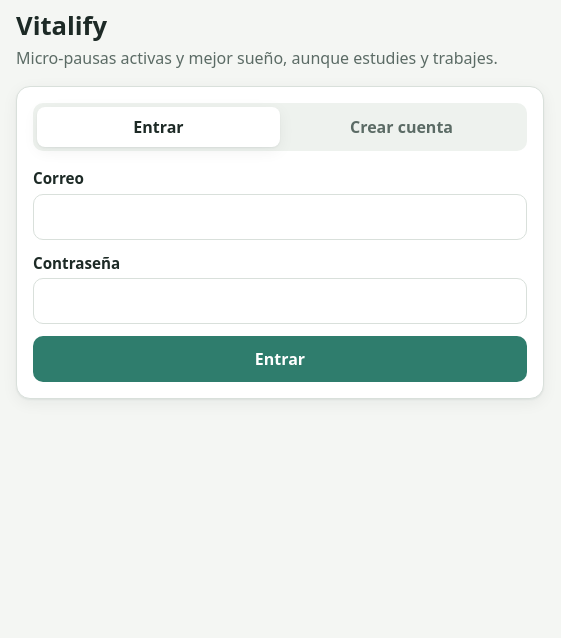
Test case: Entrar › el registro sin aceptar el tratamiento de datos no se envía
This screenshot has width=561, height=638.
Step 1. Click the tab "Crear cuenta" → x=402, y=127, box [280,107,523,147]
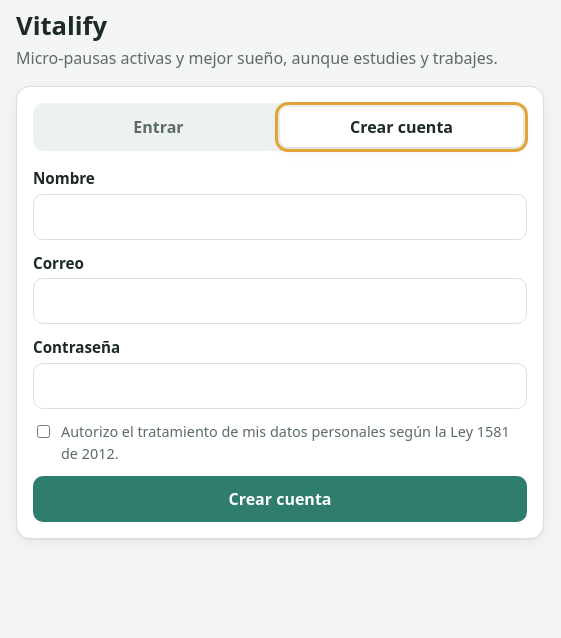
Step 2. Type "Ana" into the field labelled "Nombre" → x=280, y=216, box [33,194,527,240]
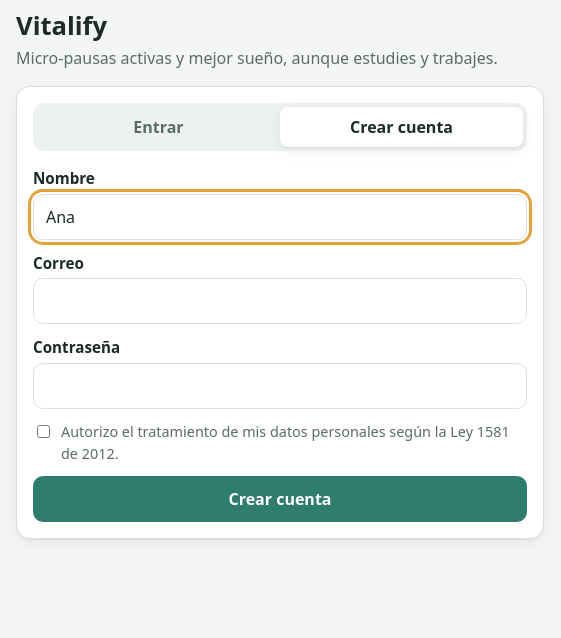
Step 3. Type "ana@x.co" into the field labelled "Correo" → x=280, y=301, box [33,278,527,324]
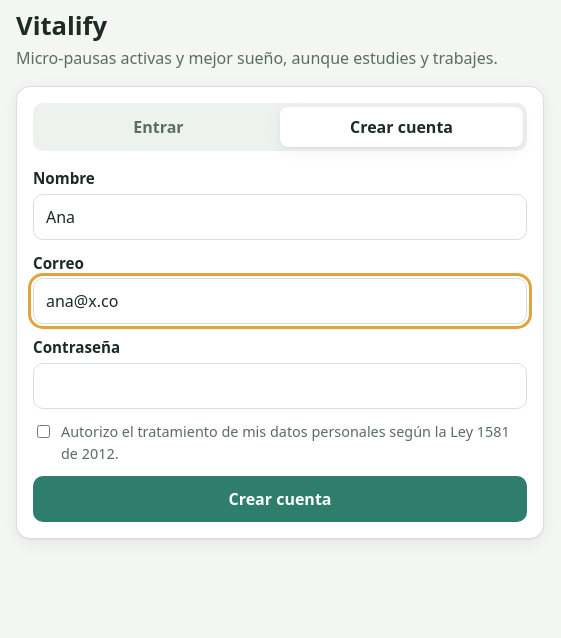
Step 4. Type "secreta123" into the password field labelled "Contraseña" → x=280, y=386, box [33,363,527,409]
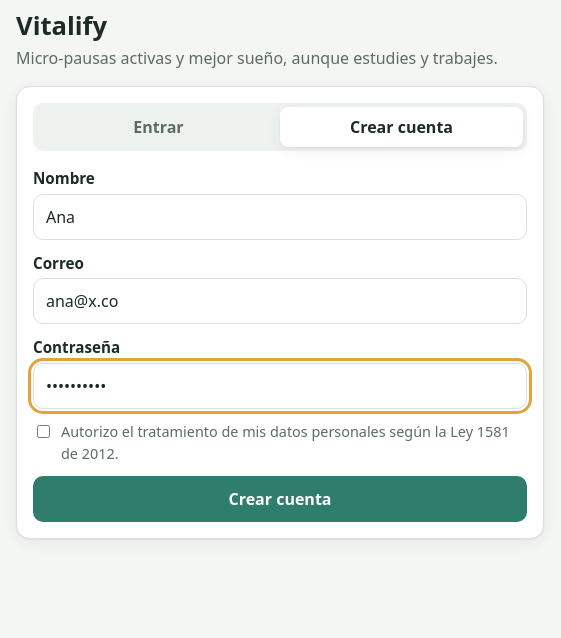
Step 5. Click the button "Crear cuenta" → x=280, y=499, box [33,476,527,522]
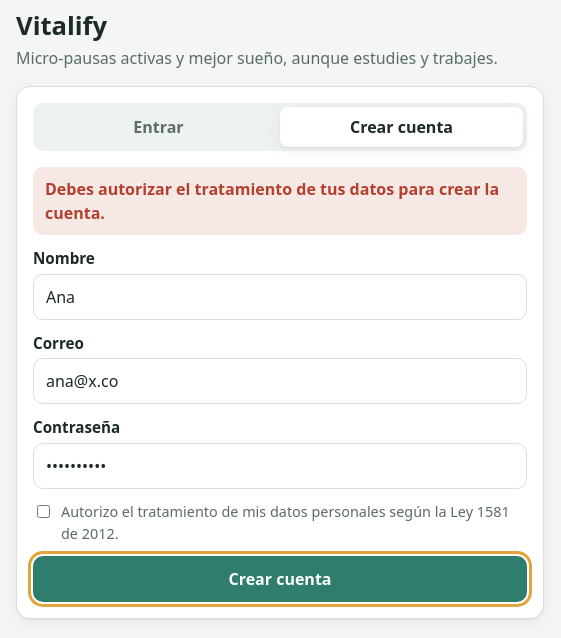
expect the message shows "Debes autorizar el tratamiento de tus datos": met, box [45,178,499,224]
